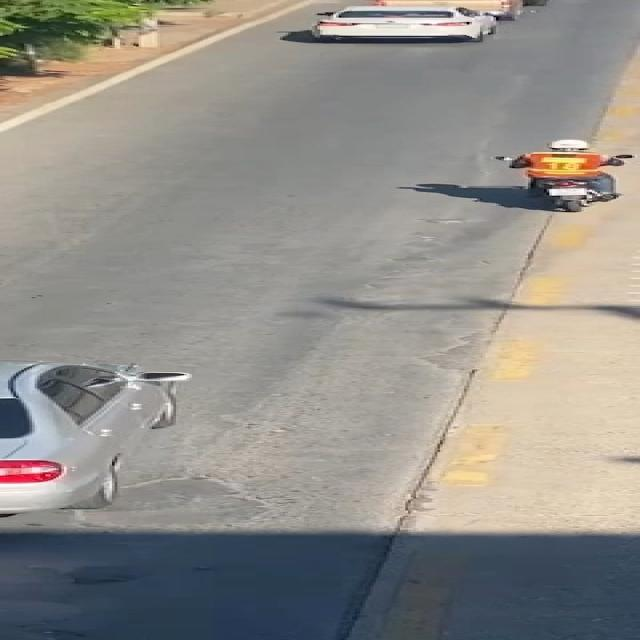car: (282, 2, 518, 43)
